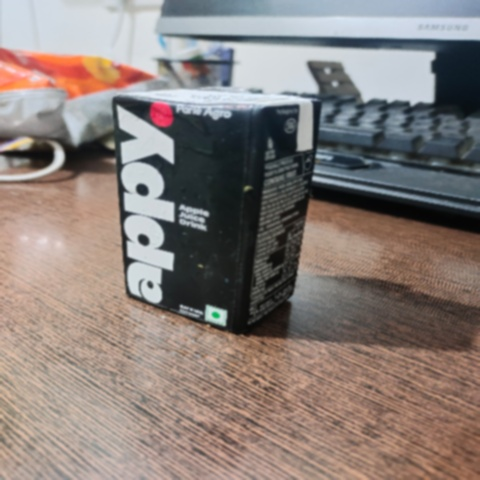appy: (81, 89, 334, 338)
